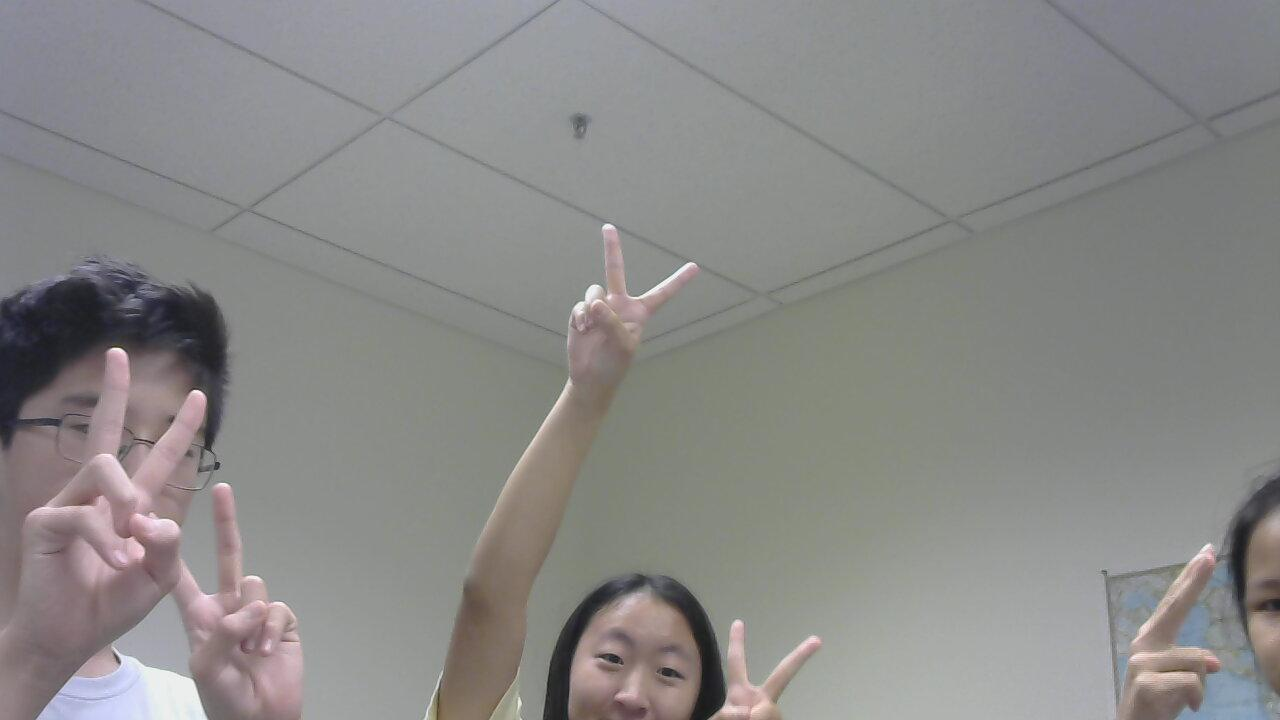peace: (31, 339, 202, 654), (141, 494, 312, 720), (551, 222, 702, 418), (1126, 532, 1242, 720), (701, 609, 839, 720)
